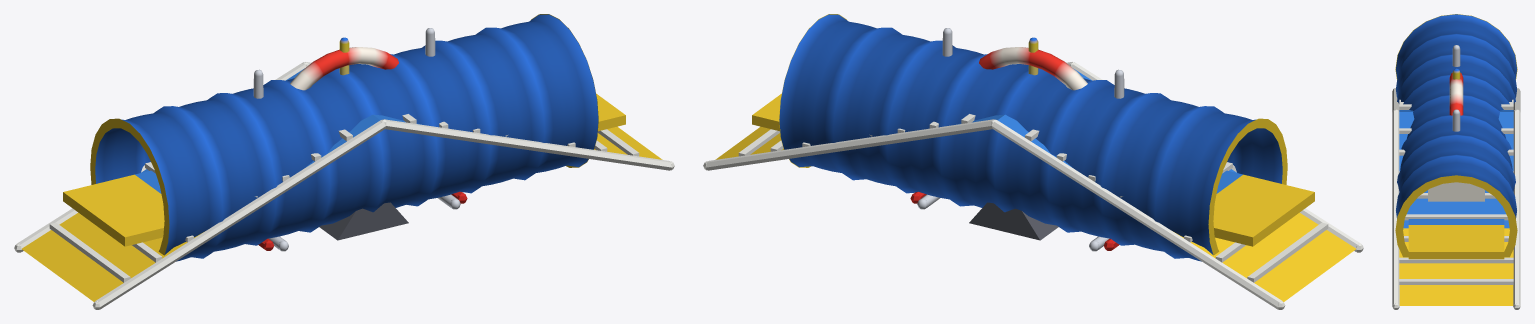
The model's file is AgilityKit.glb.
3 renders of one model, left to right at view 1: azimuth 30°, elevation 25°; view 2: azimuth 150°, elevation 25°; view 3: azimuth 270°, elevation 25°, orthographic. The views are drawn at different scales.
Parts seen in each view (by area): view 1: TunnelCloth, RampSlats, RampBoard, PlankBoard, HoopRing, Fulcrum, TunnelRims, HoopStand; view 2: TunnelCloth, RampSlats, RampBoard, PlankBoard, HoopRing, Fulcrum, TunnelRims, HoopStand; view 3: TunnelCloth, RampBoard, RampSlats, PlankBoard, TunnelRims, Wings, HoopRing, HoopStand.
Boxes of the visible parts, x1,y1,x2,y2 form: TunnelCloth: [95, 14, 598, 261]; RampSlats: [14, 62, 674, 309]; RampBoard: [22, 68, 662, 301]; PlankBoard: [63, 93, 625, 246]; HoopRing: [290, 47, 398, 90]; Fulcrum: [319, 202, 408, 240]; TunnelRims: [90, 14, 598, 255]; HoopStand: [253, 28, 460, 251]; TunnelCloth: [779, 14, 1282, 261]; RampSlats: [703, 62, 1363, 309]; RampBoard: [715, 68, 1355, 301]; PlankBoard: [752, 93, 1314, 246]; HoopRing: [979, 47, 1087, 90]; Fulcrum: [969, 202, 1058, 240]; TunnelRims: [779, 14, 1287, 255]; HoopStand: [917, 28, 1124, 251]; TunnelCloth: [1396, 14, 1516, 218]; RampBoard: [1399, 110, 1513, 305]; RampSlats: [1392, 88, 1520, 309]; PlankBoard: [1408, 219, 1504, 259]; TunnelRims: [1395, 14, 1517, 257]; Wings: [1428, 182, 1484, 201]; HoopRing: [1449, 73, 1463, 115]; HoopStand: [1452, 45, 1460, 131].
Size of the model in its own units: 1.62 by 0.478 by 0.404.
